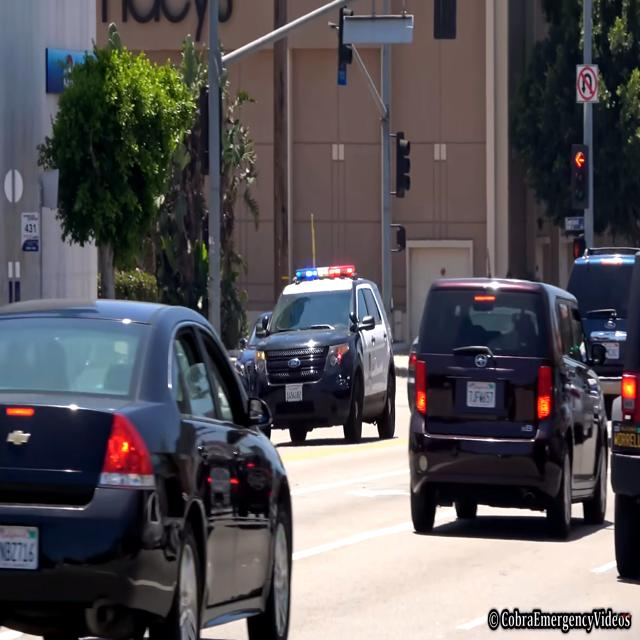emergency-vehicles: (228, 252, 410, 451)
